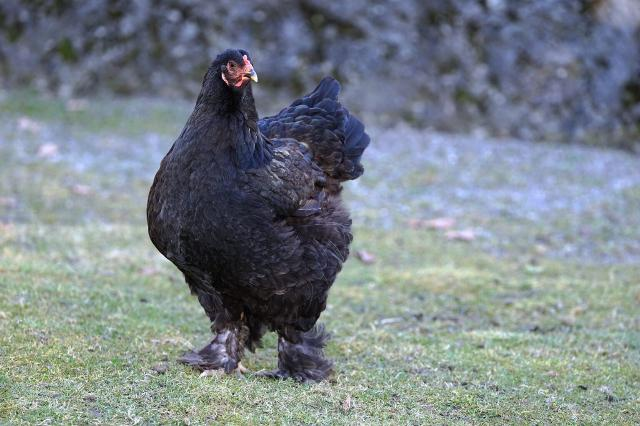Chicken: (147, 48, 369, 383)
